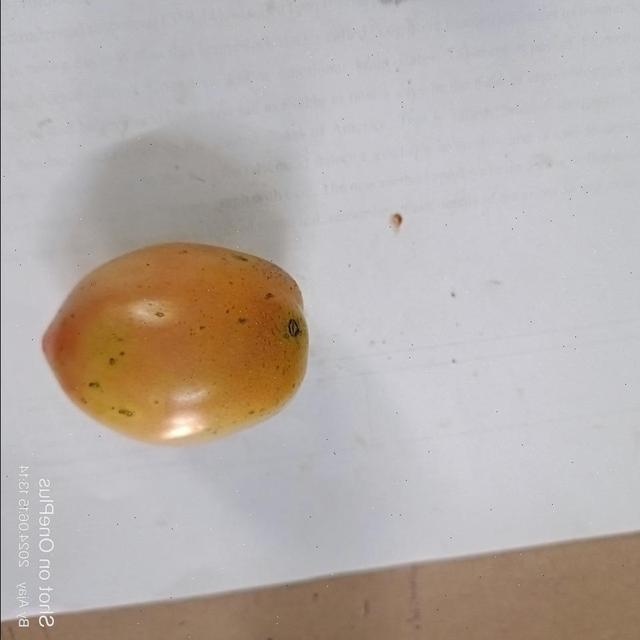Bacterial Spot Fruit: (4, 4, 197, 217)
